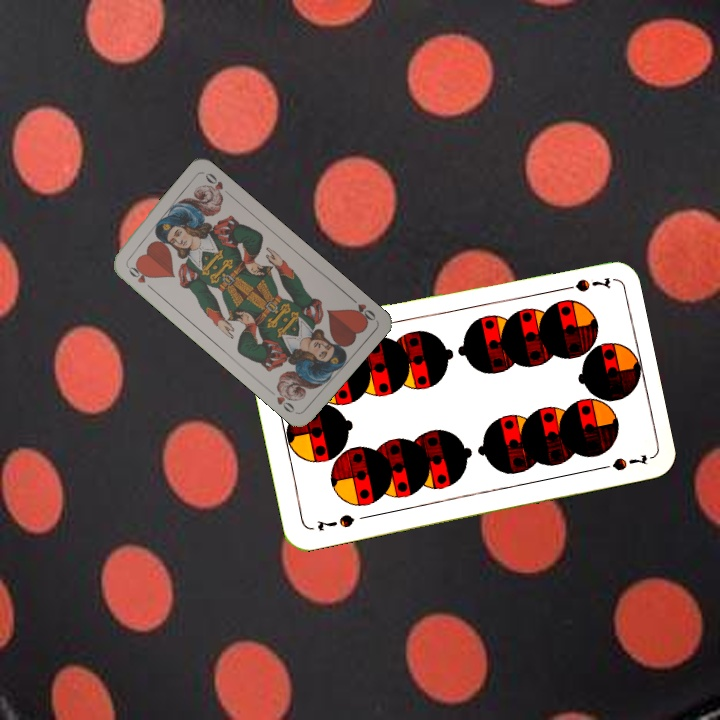HO: (345, 292, 378, 325), (122, 260, 155, 292)
S7: (554, 273, 613, 295), (312, 510, 357, 534)
